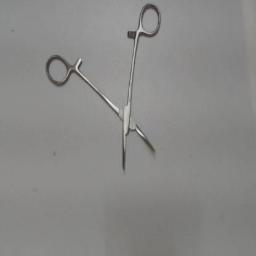Crile Artery Forceps: (44, 1, 164, 175)
